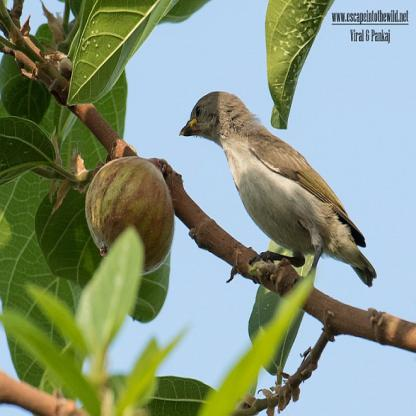Burung: (175, 91, 381, 292)
